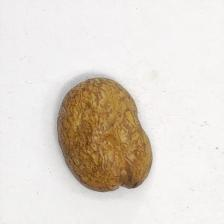NG: (56, 77, 144, 180)
